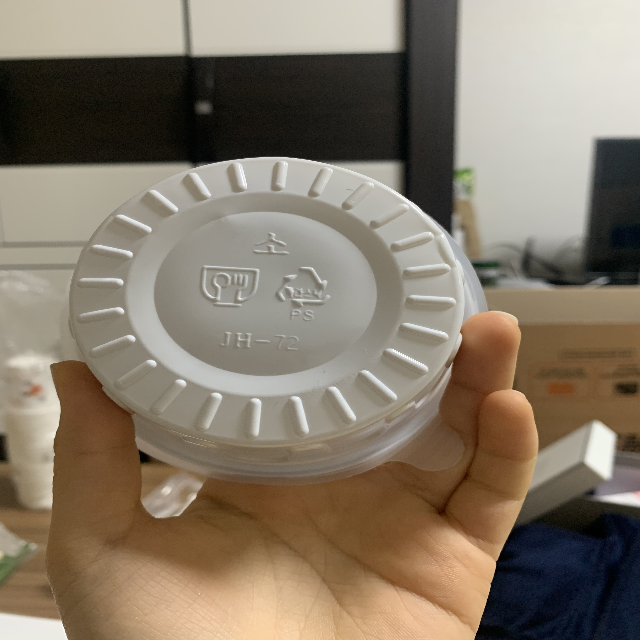ps: (273, 264, 332, 323)
